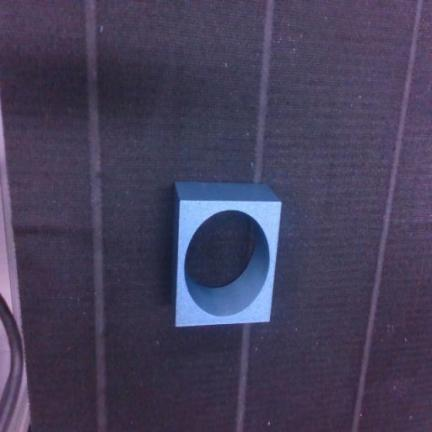hole: (173, 183, 280, 326)
